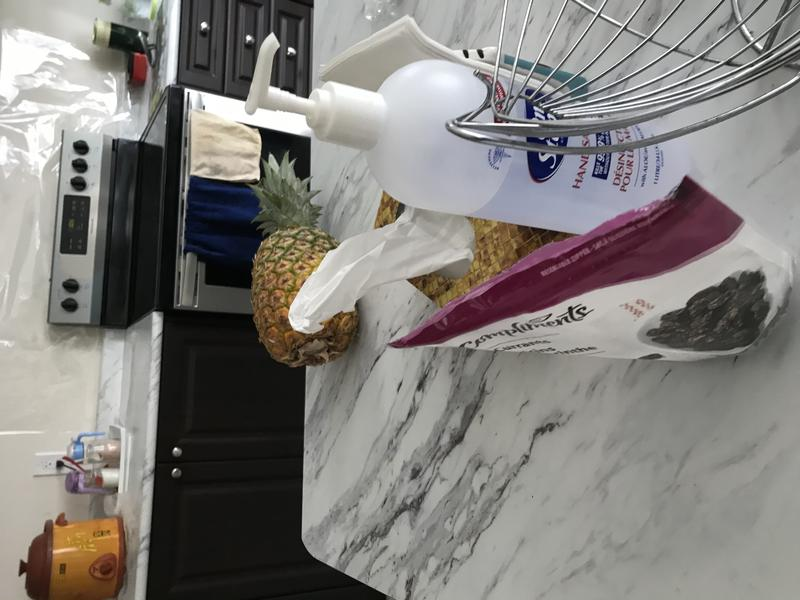pineapple: (243, 144, 363, 377)
